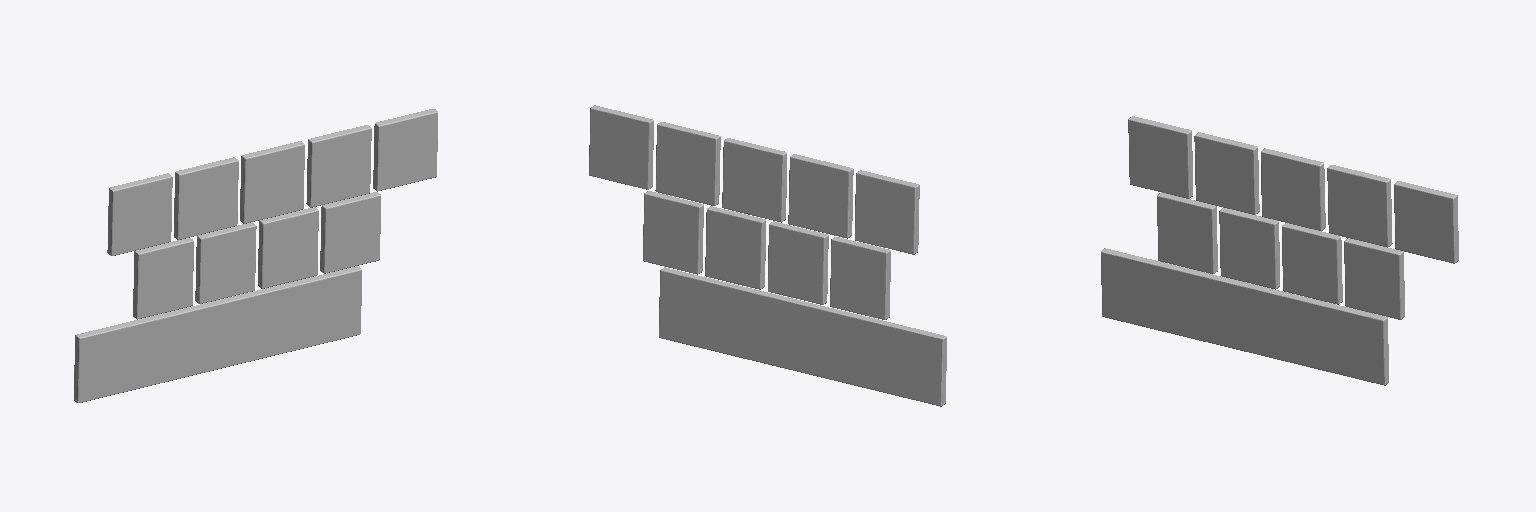
File: keyboard_white_buttons.obj
3 views of the same model, side by side, from view 1: azimuth 30°, elevation 25°; view 2: azimuth 150°, elevation 25°; view 3: azimuth 330°, elevation 25° (orthographic).
Parts seen in each view (by area): view 1: buttons_white; view 2: buttons_white; view 3: buttons_white.
Part boxes in pixels (left/top/right/bottom): buttons_white: left=74, top=109, right=437, bottom=402; buttons_white: left=589, top=105, right=946, bottom=406; buttons_white: left=1101, top=116, right=1458, bottom=385.
Size of the model in its own units: 88.87 by 49.89 by 4.03.